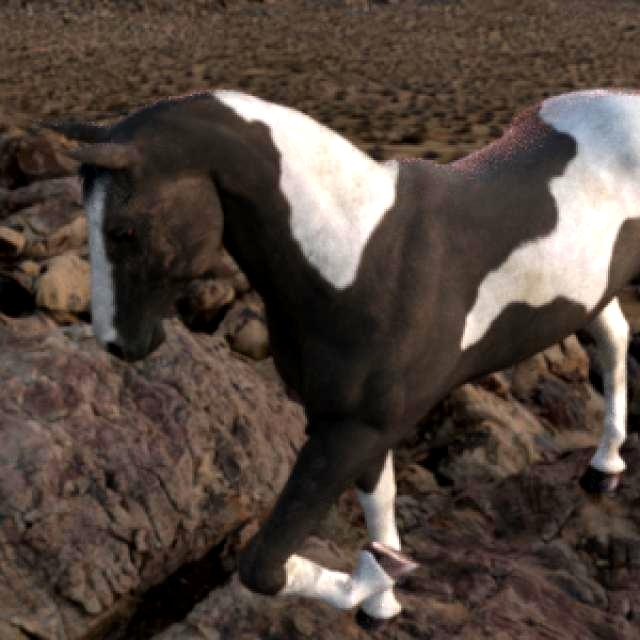horse: (52, 90, 640, 624)
